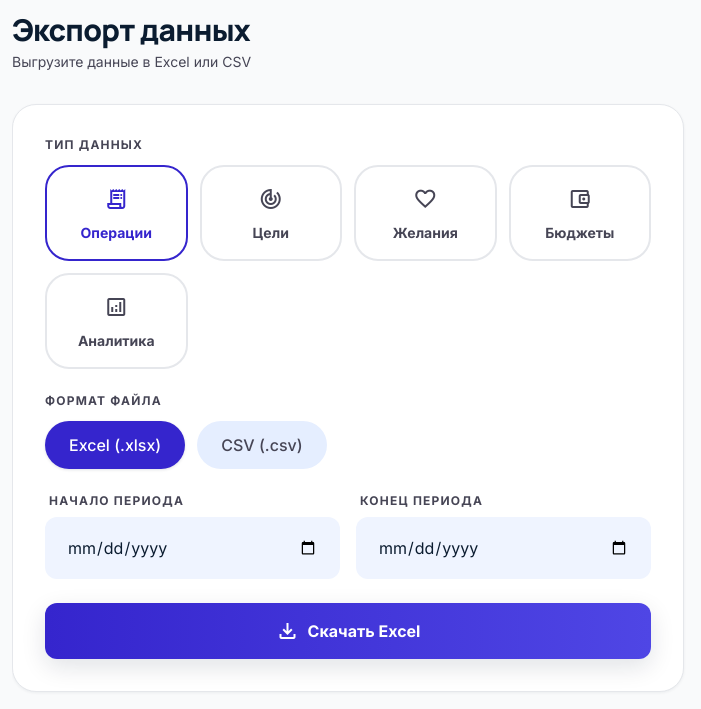
Scenario: Export › shows download text for CSV when CSV format selected
Click the button "CSV (.csv)".
click(262, 445)  # box [197,421,327,469]
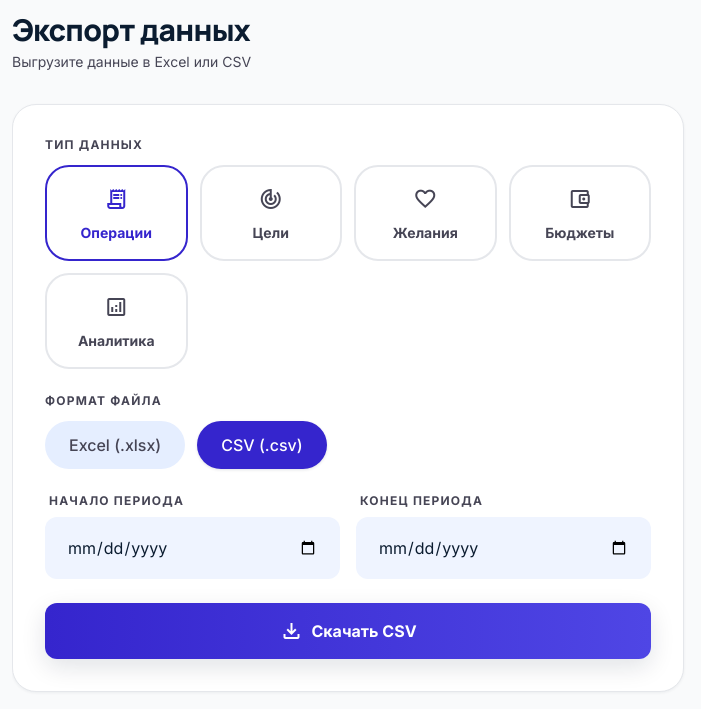
Expected: the text "Скачать CSV" is shown, [279,617,417,645]
